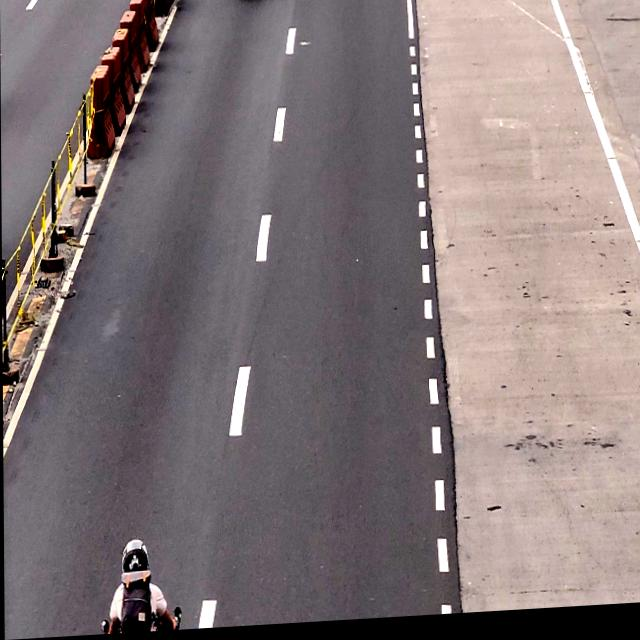Motorcycle: (103, 536, 174, 635)
